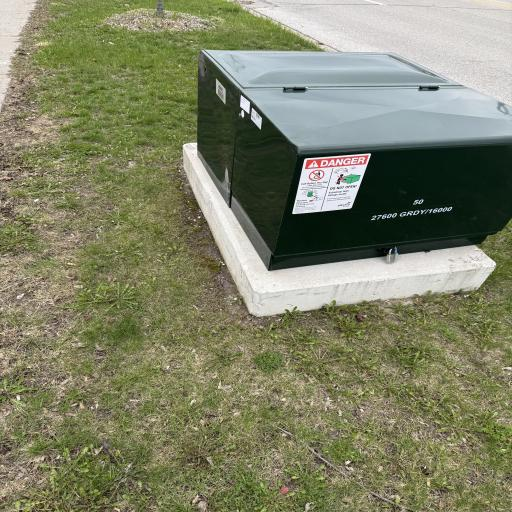Electrical Box: (193, 46, 512, 269)
